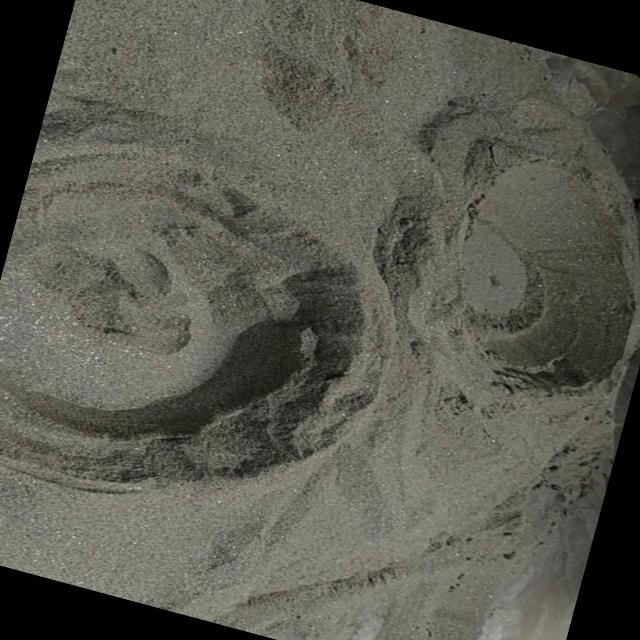C20: (0, 152, 391, 491), (436, 159, 635, 389)
